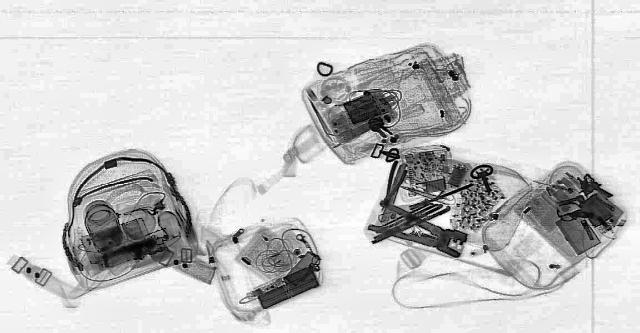Pliers: (350, 202, 488, 260)
